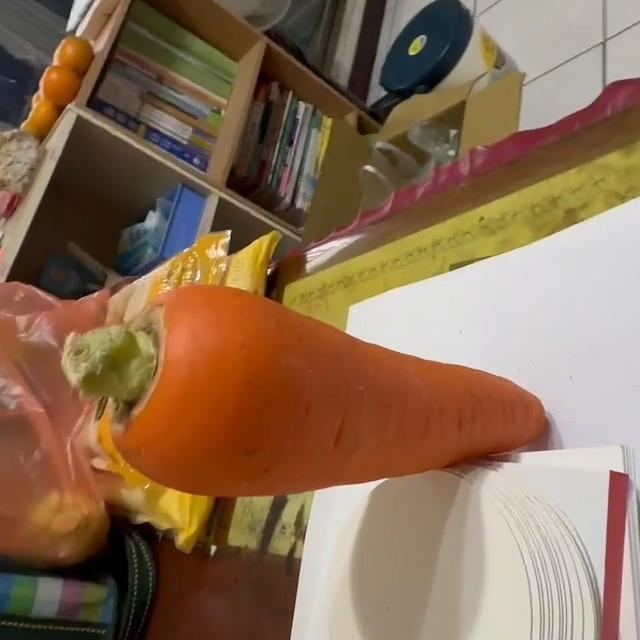carrot: (64, 283, 553, 502)
